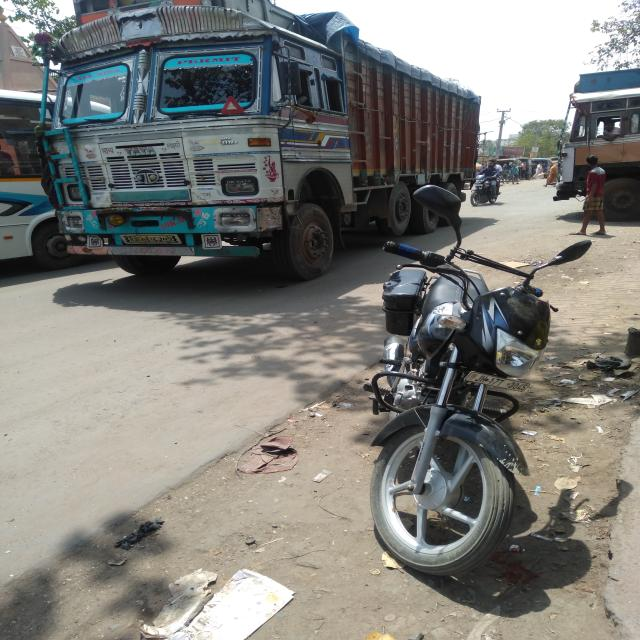Bike: (358, 168, 599, 589), (470, 162, 502, 206)
Bus: (0, 72, 160, 276)
Truck: (31, 5, 480, 255), (548, 76, 640, 222)
tempo: (492, 156, 520, 182), (510, 156, 535, 180), (532, 157, 554, 179)
